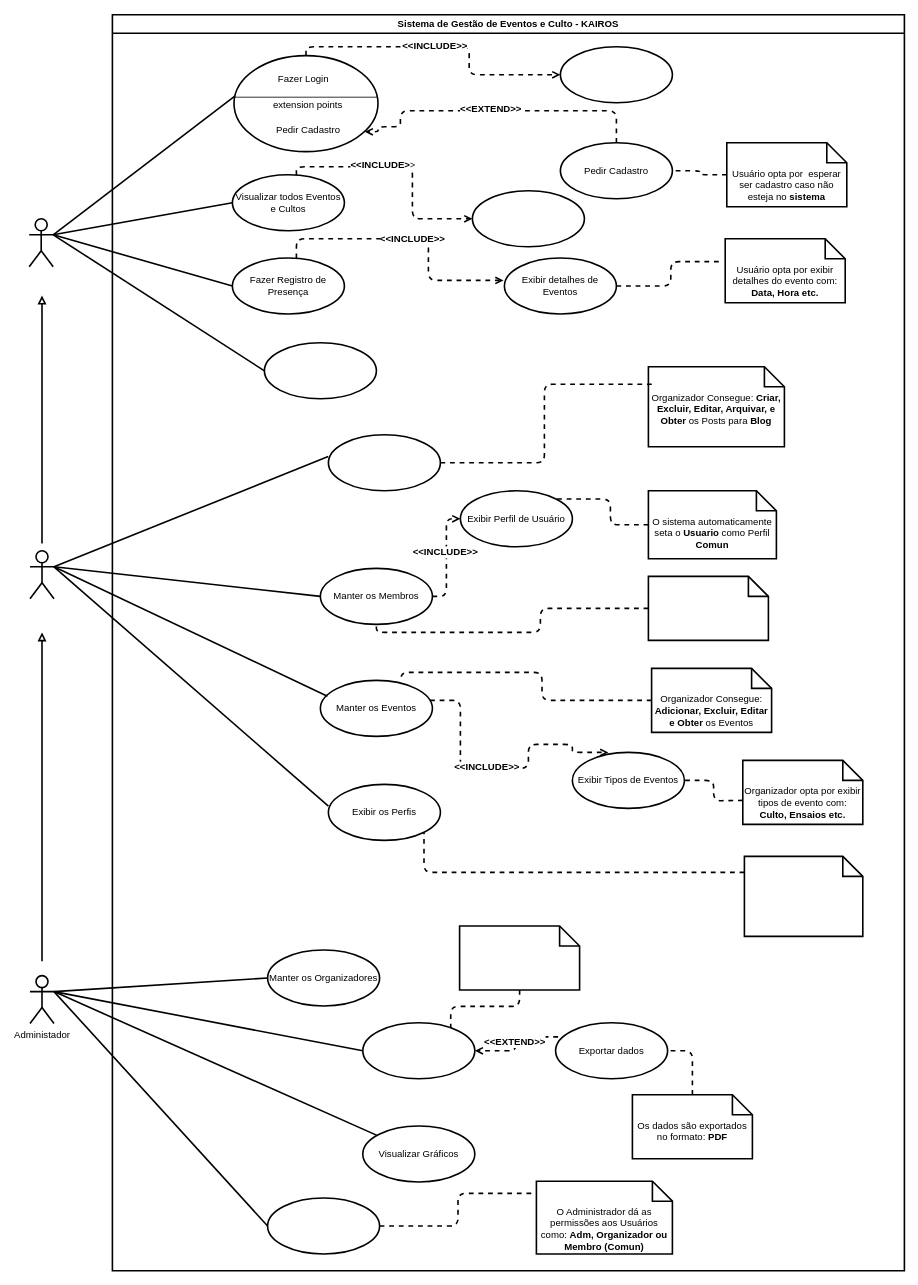
Some shapes in this 918 by 1285 pixel diagram are drawn without their labels. Here are the shapes that lost their labels. From the top down, the box of each, then its label:
(559, 46, 673, 103): Verificar Login
(471, 190, 585, 247): Visualizar tipo Eventos e Cultos
(28, 218, 54, 267): Membros
(263, 342, 377, 399): Visualizar Post no Blog
(327, 434, 441, 491): Manter Posts
(29, 550, 54, 599): Organizador
(647, 575, 769, 641): Organizador Consegue: Cadastrar, Excluir, Editar e Obter os Membros
(743, 855, 863, 937): Organizador Consegue: Obter os Perfis
(458, 925, 580, 990): O Administrador Gera relatórios
(362, 1022, 475, 1079): Gerar relatório
(266, 1197, 380, 1254): Dar e permissões
